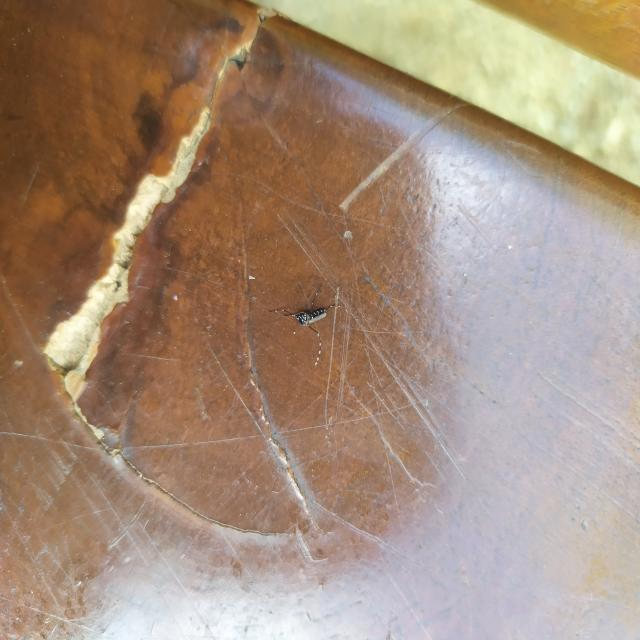albopictus: (264, 279, 338, 348)
